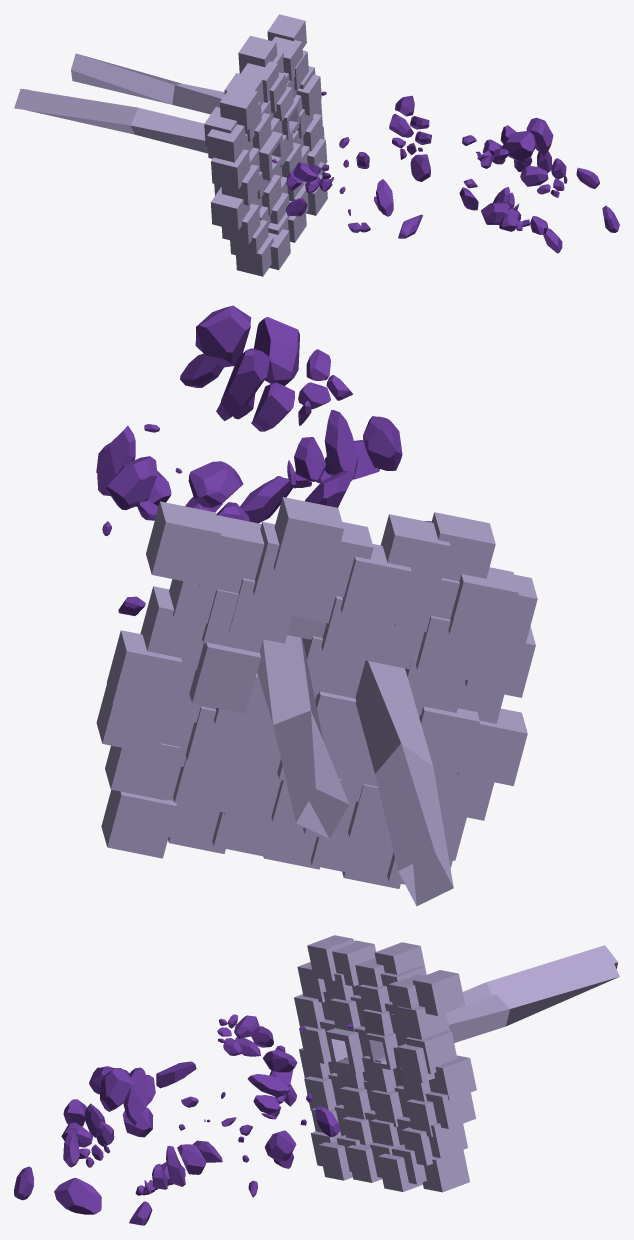
Rendered from portal.fbx.
3 renders of one model, top to bottom at view 1: azimuth 30°, elevation 25°; view 2: azimuth 150°, elevation 25°; view 3: azimuth 270°, elevation 25°, orthographic. The views are drawn at different scales.
Parts seen in each view (by area): view 1: Cube_006, Cube_029, rock_011, rock_001, rock_022, Cube_059, rock, Cube_023, Cube_012, Cube_022, rock_040, Cube_056 (+24 smaller); view 2: Cube_006, rock_011, Cube_029, rock, Cube_044, Cube_056, Cube_039, Cube_020, Cube_052, rock_001, Cube_058, Cube_028 (+43 smaller); view 3: Cube_029, Cube_006, rock_011, rock, rock_022, Cube_044, rock_001, rock_040, Cube_039, Cube_052, rock_047, Cube_045 (+38 smaller).
Part boxes in pixels (x1,y1,x2,y2): Cube_006: (14,89,284,180); Cube_029: (71,53,300,139); rock_011: (477,117,553,168); rock_001: (514,151,567,197); rock_022: (389,95,431,159); Cube_059: (219,85,259,130); rock: (481,187,529,231); Cube_023: (207,124,246,162); Cube_012: (210,187,249,230); Cube_022: (211,149,250,189); rock_040: (286,162,333,192); Cube_056: (238,35,277,73); Cube_006: (355,660,453,906); rock_011: (195,305,353,431); Cube_029: (257,635,349,838); rock: (287,410,402,488); Cube_044: (146,501,221,585); Cube_056: (273,497,343,581); Cube_039: (106,630,182,714); Cube_020: (448,567,518,645); Cube_052: (101,789,176,858); rock_001: (96,425,171,509); Cube_058: (381,514,450,598); Cube_028: (189,642,260,713); Cube_029: (365,955,619,1069); Cube_006: (325,945,618,1074); rock_011: (89,1066,155,1125); rock: (61,1099,114,1167); rock_022: (247,1049,297,1119); Cube_044: (412,970,465,1015); rock_001: (135,1144,206,1195); rock_040: (217,1014,273,1056); Cube_039: (428,1055,476,1100); Cube_052: (422,1150,469,1192); rock_047: (54,1177,101,1214); Cube_045: (397,1006,449,1039).
Size of the model in its own units: 52.61 by 27.91 by 64.4.
